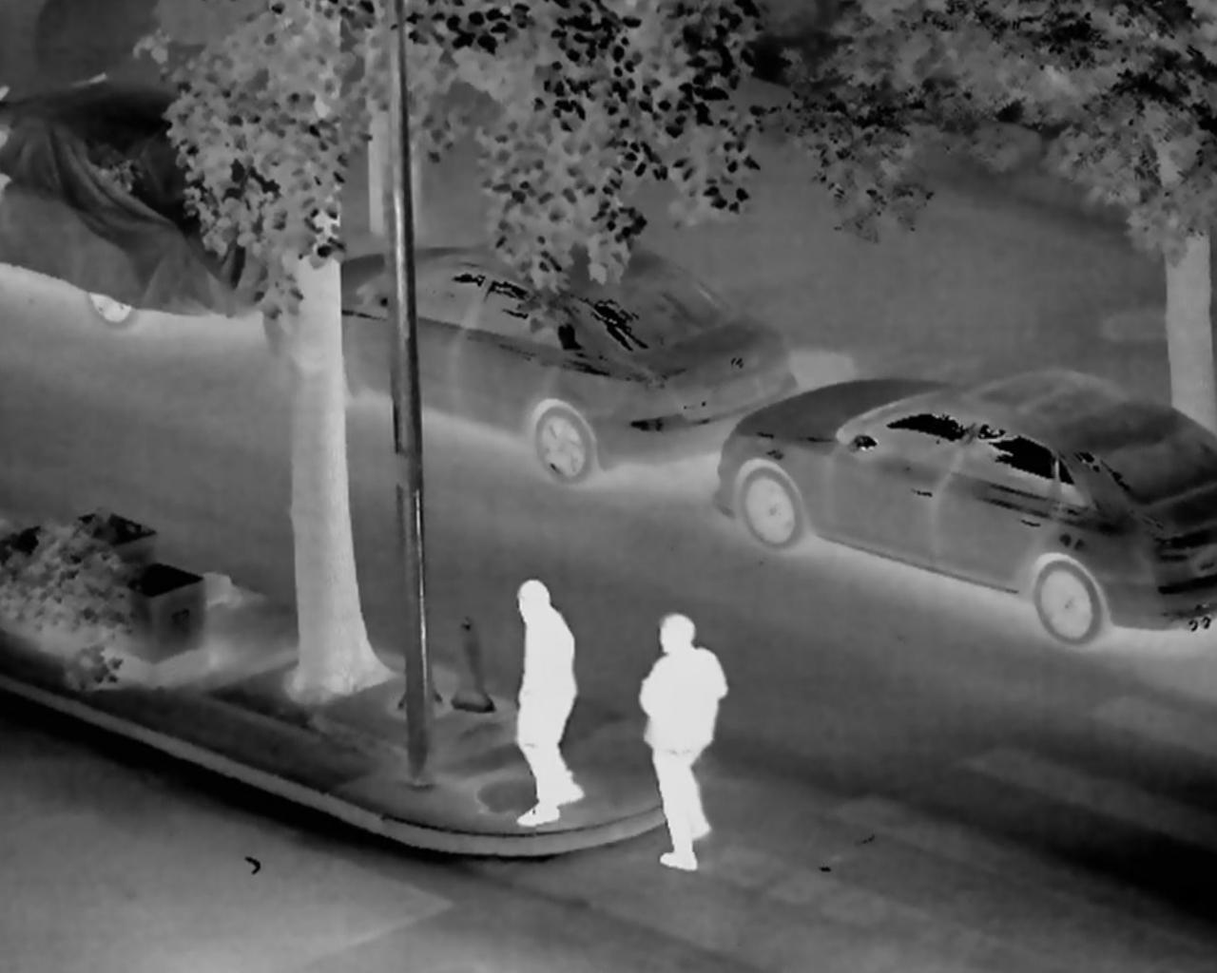person: (628, 601, 734, 878), (502, 577, 599, 830)
